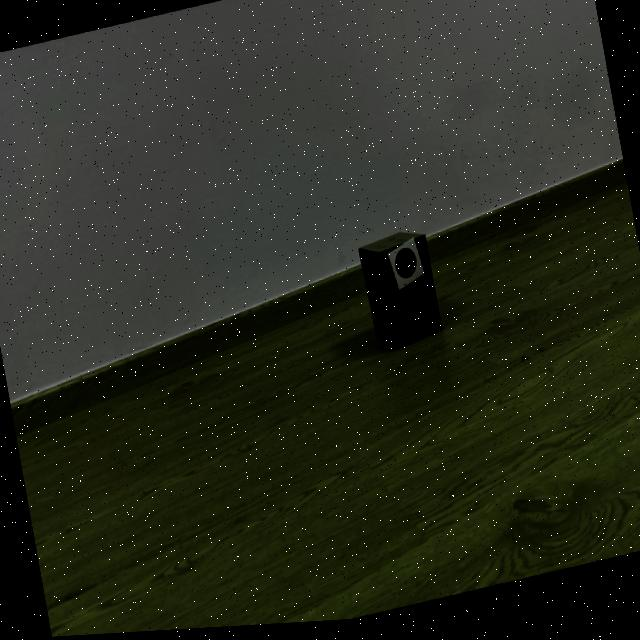CIRCLE: (394, 252, 417, 283)
